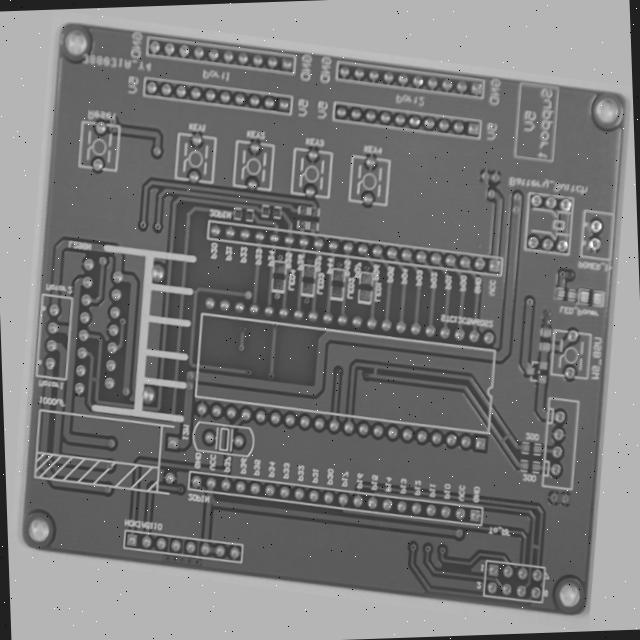short: (377, 356, 398, 382), (527, 410, 545, 431), (574, 531, 593, 550), (75, 423, 90, 442), (153, 186, 169, 201)
